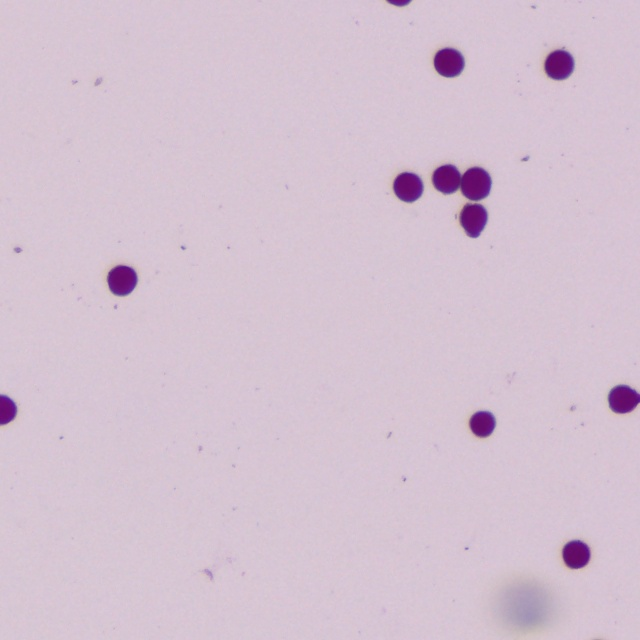viable: (392, 166, 490, 237), (462, 168, 491, 200), (108, 266, 137, 295), (461, 205, 487, 237), (394, 173, 423, 201), (435, 49, 464, 77), (609, 386, 639, 413), (546, 50, 573, 79), (433, 165, 460, 193), (563, 541, 590, 568), (470, 412, 495, 437), (1, 395, 16, 424)
